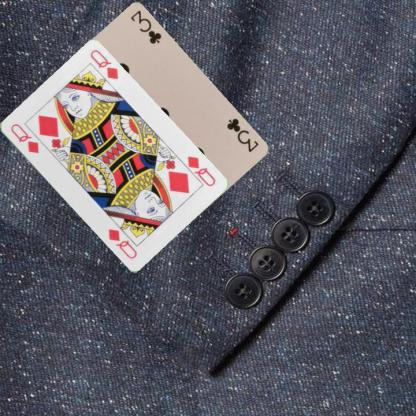3c: (224, 116, 260, 154)
Qd: (176, 153, 216, 188), (7, 121, 40, 155)
